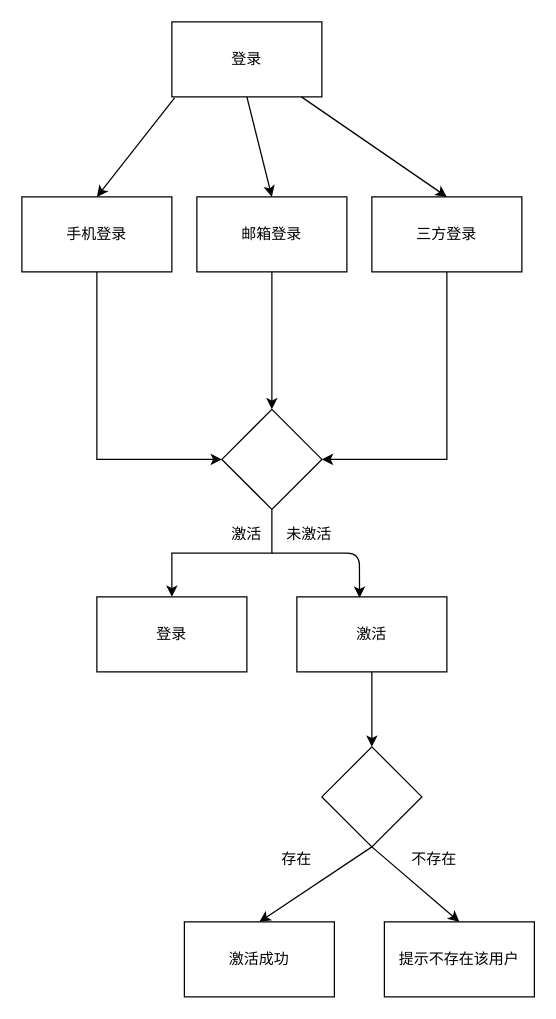
This 556x1019 diagram has some shape labels left out. The shapes that lost their labels are listed below. From the top down, each one's centre as x and y in pixels, then its label:
pixel 271 458: 是否激活
pixel 371 796: 是否存在用户
